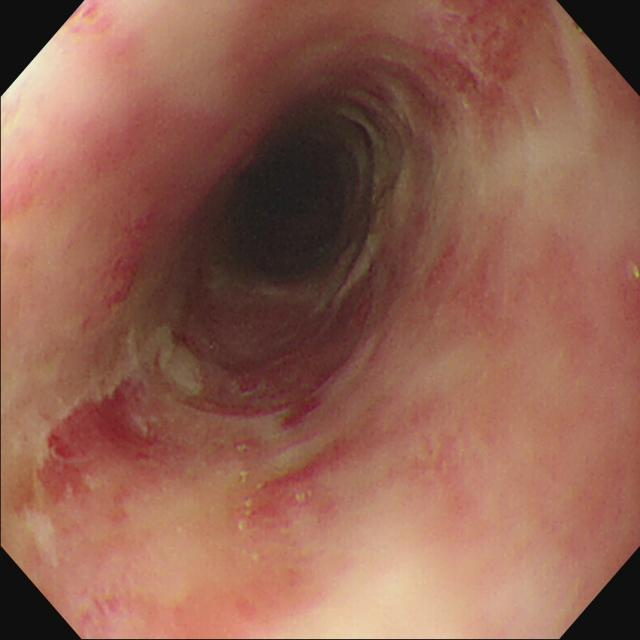A: (186, 300, 363, 420), (423, 2, 536, 102), (257, 437, 361, 525), (420, 228, 500, 333), (95, 208, 156, 310)
C: (52, 381, 149, 460), (282, 401, 325, 429)
E: (243, 140, 363, 285)
J: (161, 328, 210, 409)
